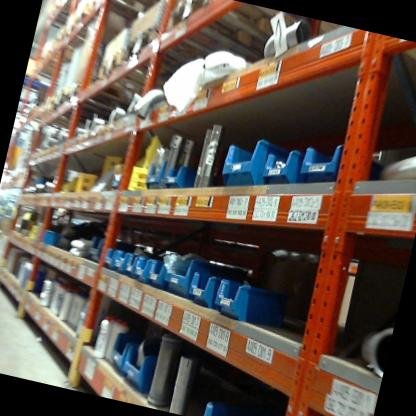pallet: (114, 19, 258, 115), (91, 49, 198, 112), (88, 0, 204, 34)
